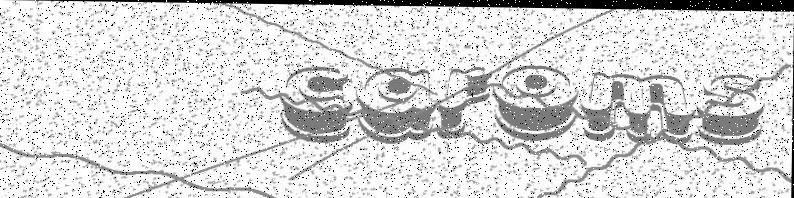a: (354, 63, 435, 144)
c: (278, 63, 354, 143)
m: (580, 69, 696, 144)
o: (493, 63, 580, 141)
r: (437, 64, 490, 139)
s: (696, 70, 765, 145)
